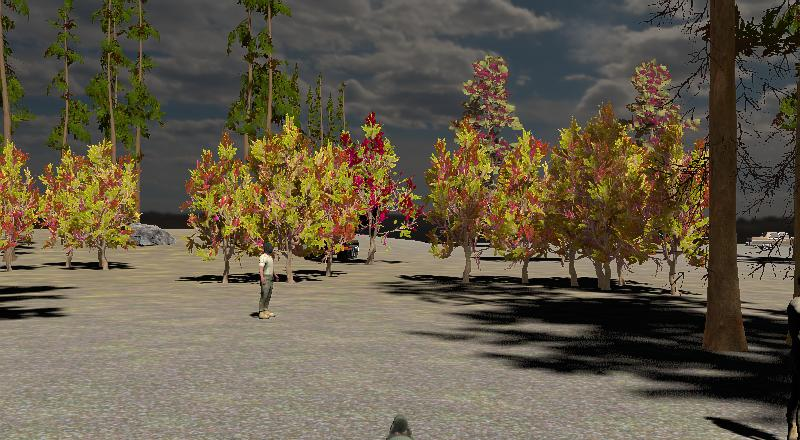Human: (258, 241, 278, 320)
